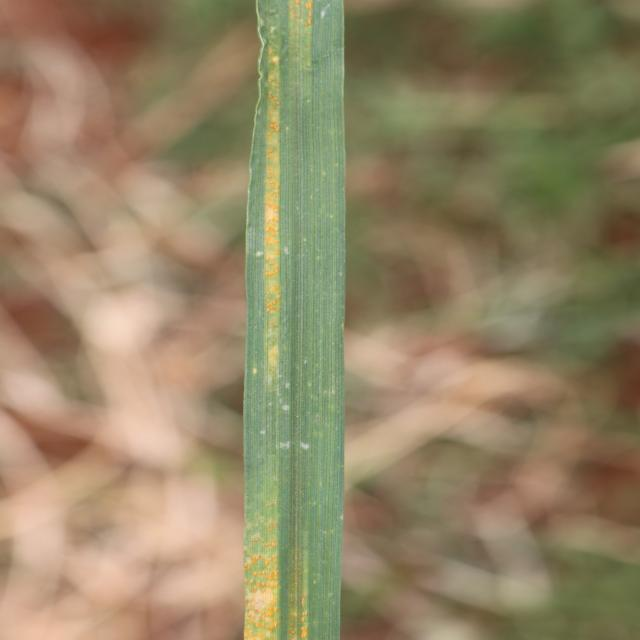Stripe Rust: (266, 69, 277, 380), (300, 0, 314, 29)
